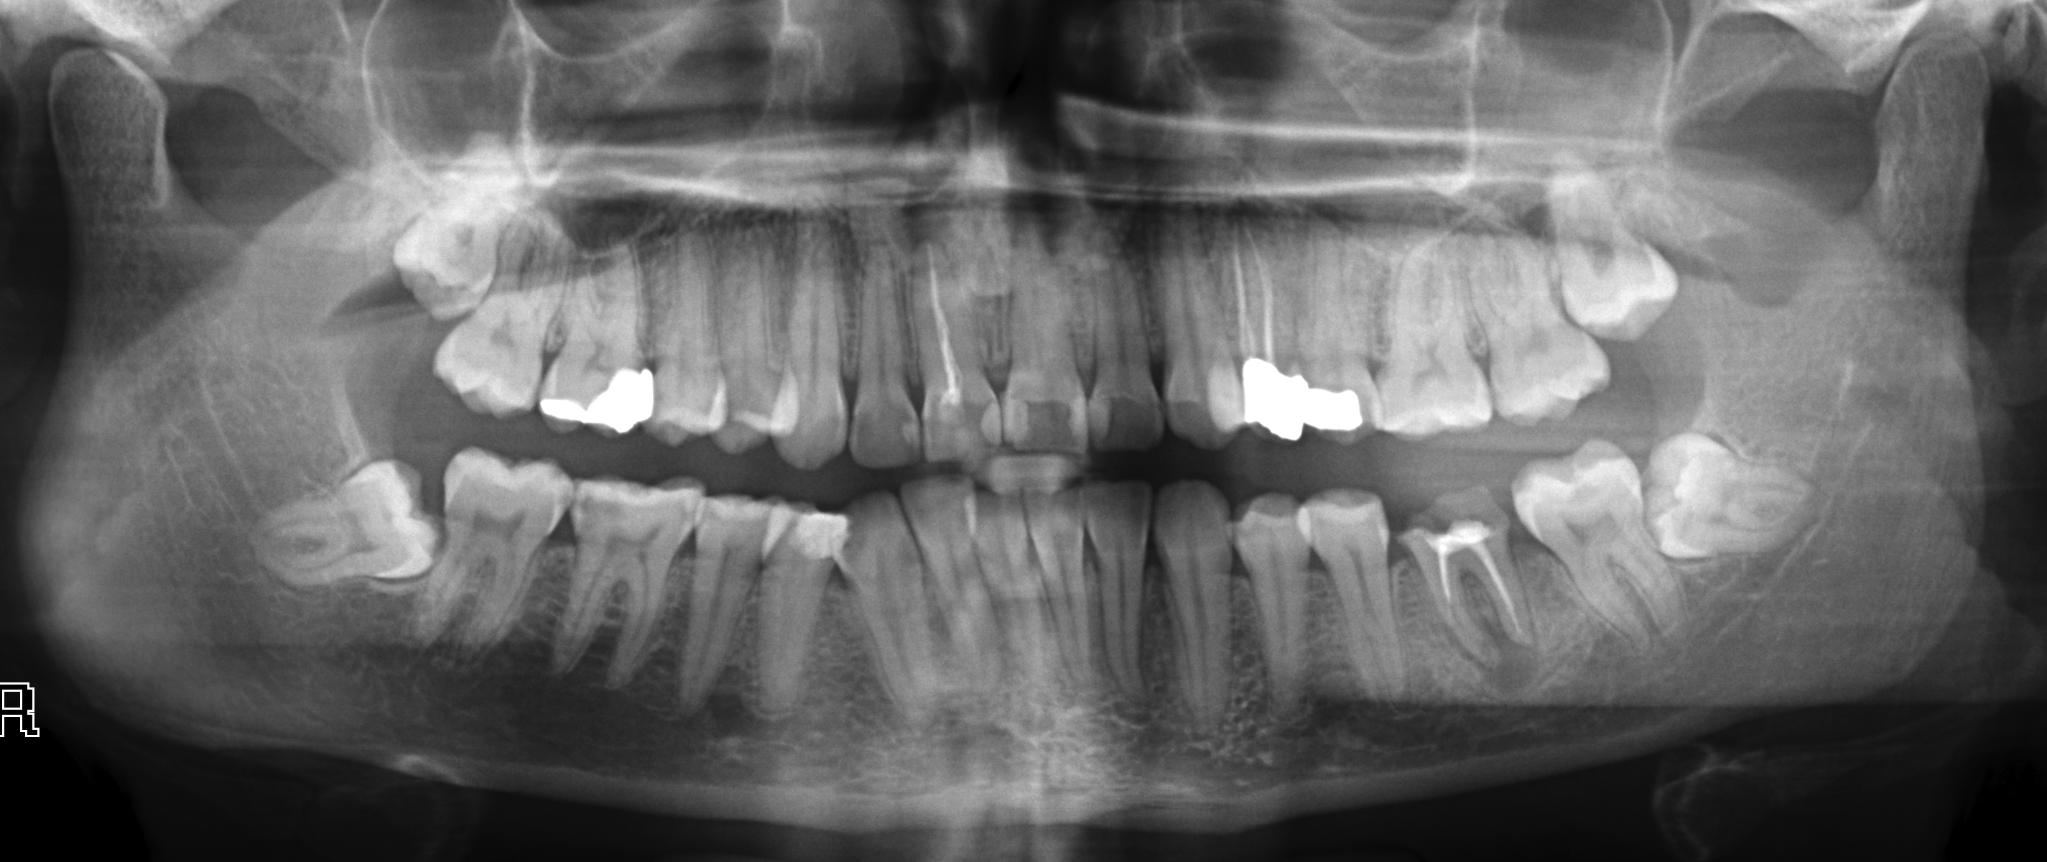Cavity: (1001, 226, 1085, 452)
Impacted Tooth: (252, 452, 437, 596), (1641, 426, 1819, 567)
Implant: (1393, 495, 1543, 669), (1236, 240, 1305, 443)
